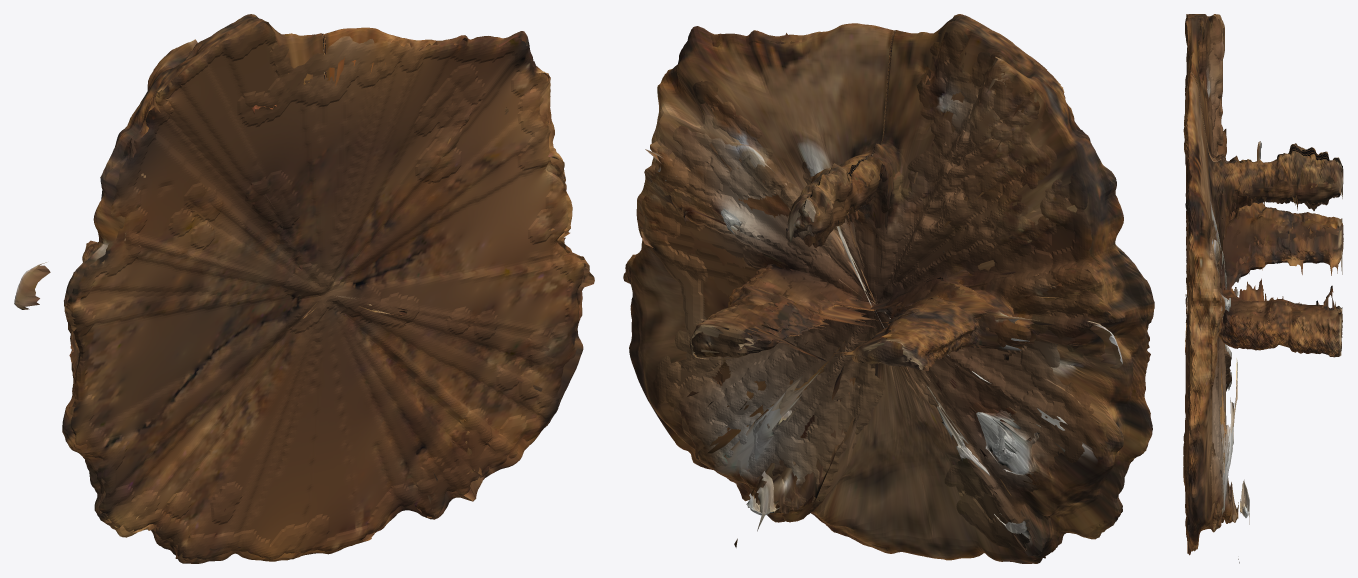
The model's file is mesh_inpaint.glb.
3 views of the same model, side by side, from view 1: azimuth 30°, elevation 25°; view 2: azimuth 150°, elevation 25°; view 3: azimuth 270°, elevation 25° (orthographic). The views are drawn at different scales.
Parts seen in each view (by area): view 1: fill, ipn; view 2: ipn, fill; view 3: ipn, fill.
Part boxes in pixels (x1,y1,x2,y2): fill: [67, 19, 584, 559]; ipn: [14, 14, 594, 563]; ipn: [623, 14, 1154, 563]; fill: [629, 17, 1147, 556]; ipn: [1185, 14, 1342, 563]; fill: [1183, 14, 1343, 543].
Bounding box in the file's own units: 1.88 × 1.85 × 0.5794.
2 materials, 1 textured.
